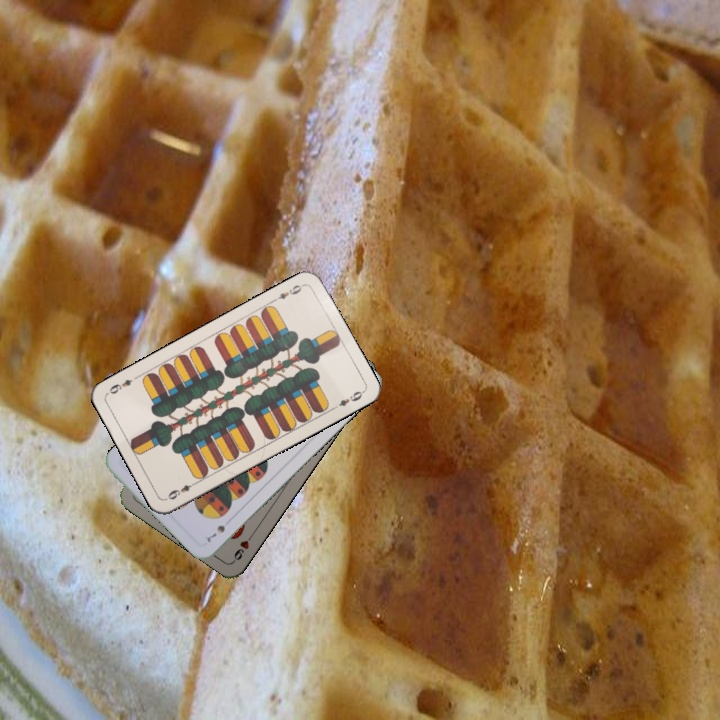E9: (269, 280, 307, 304), (164, 477, 200, 502)
H9: (229, 528, 257, 564)
S7: (203, 521, 227, 544)
